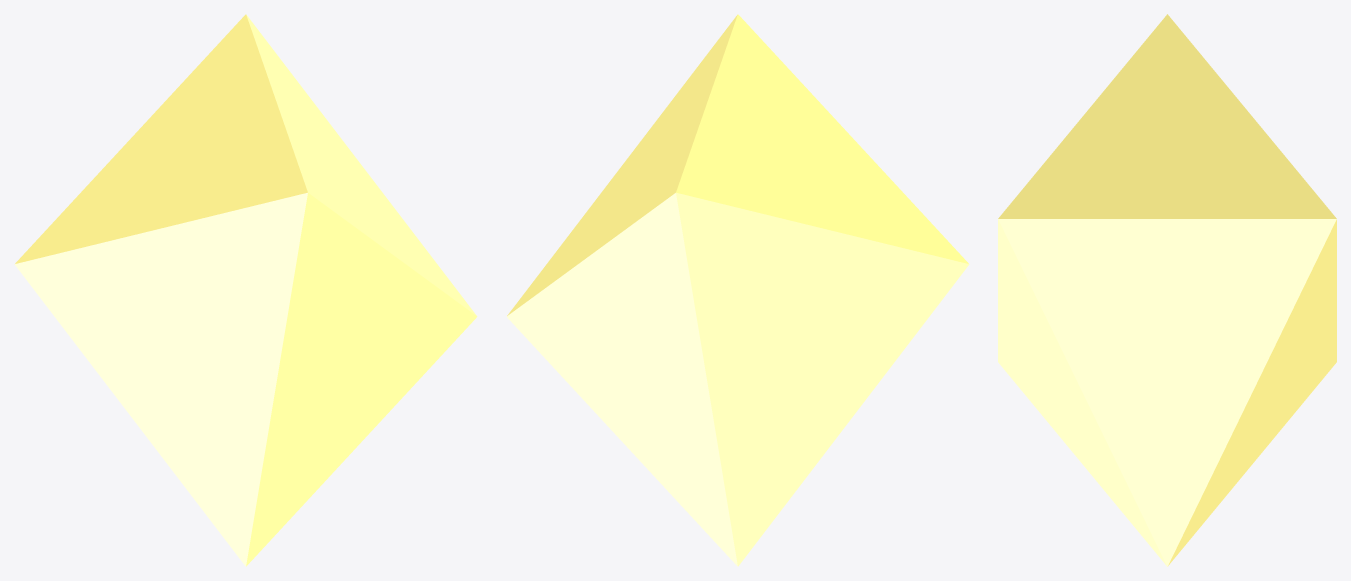
The model's file is solari_staff.glb.
3 renders of one model, left to right at view 1: azimuth 30°, elevation 25°; view 2: azimuth 150°, elevation 25°; view 3: azimuth 270°, elevation 25°, orthographic.
Parts seen in each view (by area): view 1: Pelvis; view 2: Pelvis; view 3: Pelvis.
Part boxes in pixels (left/top/right/bottom): Pelvis: left=14, top=14, right=477, bottom=566; Pelvis: left=506, top=14, right=969, bottom=566; Pelvis: left=998, top=14, right=1336, bottom=566.
Size of the model in its own units: 1 by 1.8 by 1.
